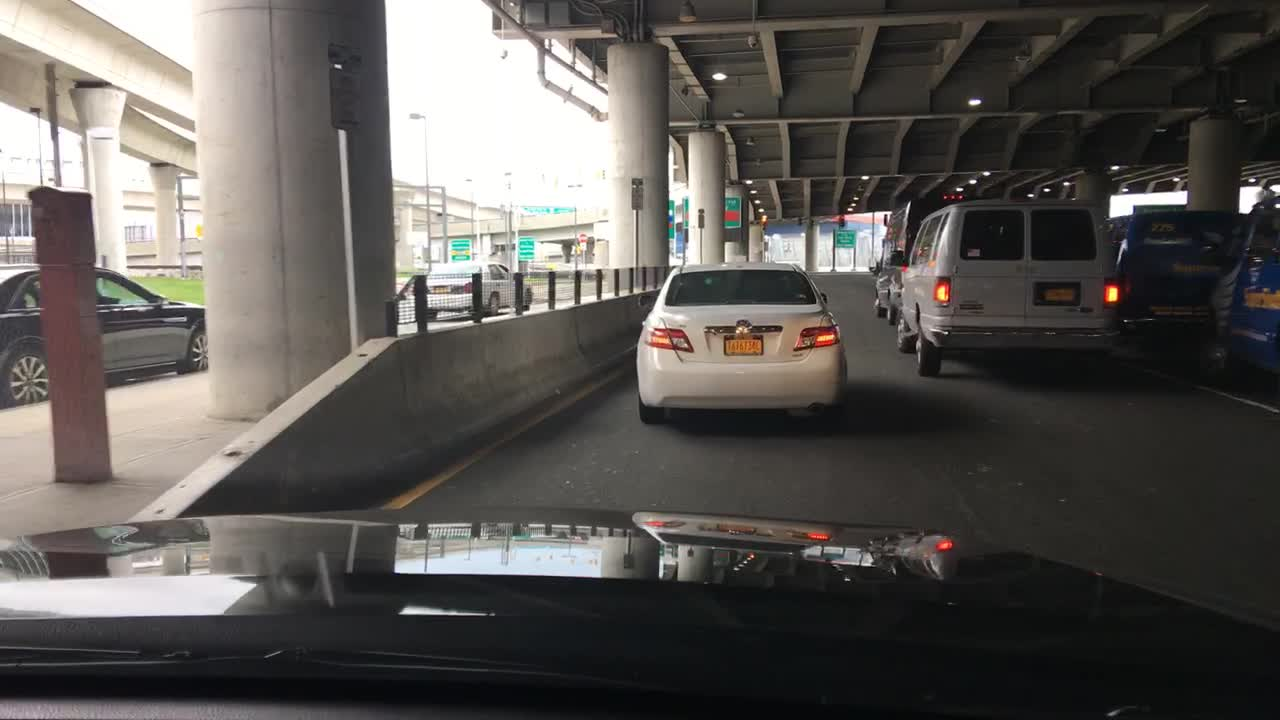car: (896, 198, 1114, 381), (636, 258, 847, 430), (0, 258, 208, 405), (1105, 202, 1243, 358), (1203, 187, 1280, 395), (415, 258, 535, 318)
traffic light: (836, 207, 844, 224)
traffic sign: (681, 197, 742, 230), (665, 197, 676, 238), (449, 238, 469, 260), (518, 236, 532, 263), (632, 175, 642, 210), (834, 232, 854, 247), (575, 229, 587, 240)
truck: (868, 189, 980, 324)
